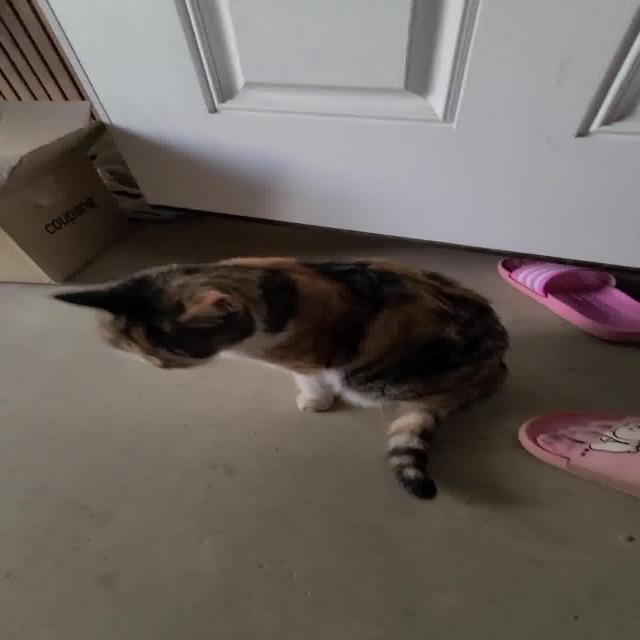cat: (25, 221, 517, 508)
